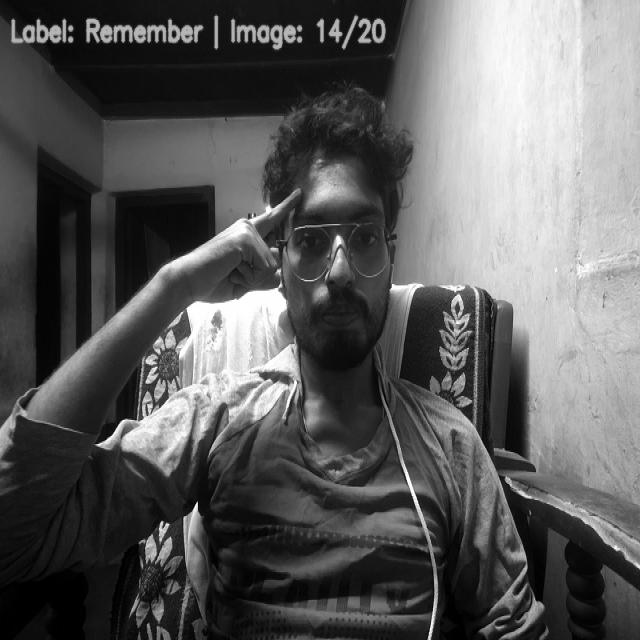Remember: (189, 183, 307, 301)
